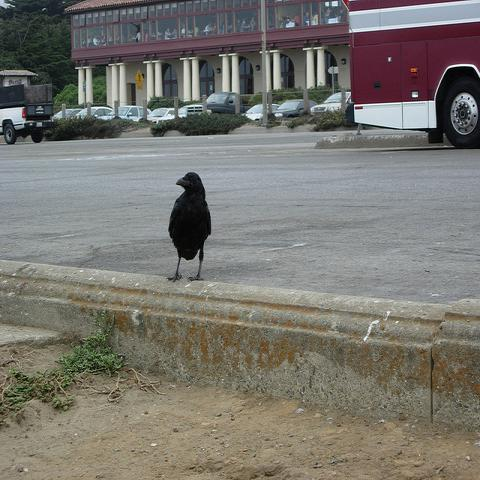car: (312, 90, 354, 122), (276, 98, 317, 120), (104, 105, 150, 124), (240, 103, 281, 121), (71, 104, 114, 120), (146, 107, 175, 126), (51, 107, 83, 122), (178, 104, 204, 118)
truck: (348, 0, 479, 153), (0, 84, 53, 144), (206, 92, 244, 114)
